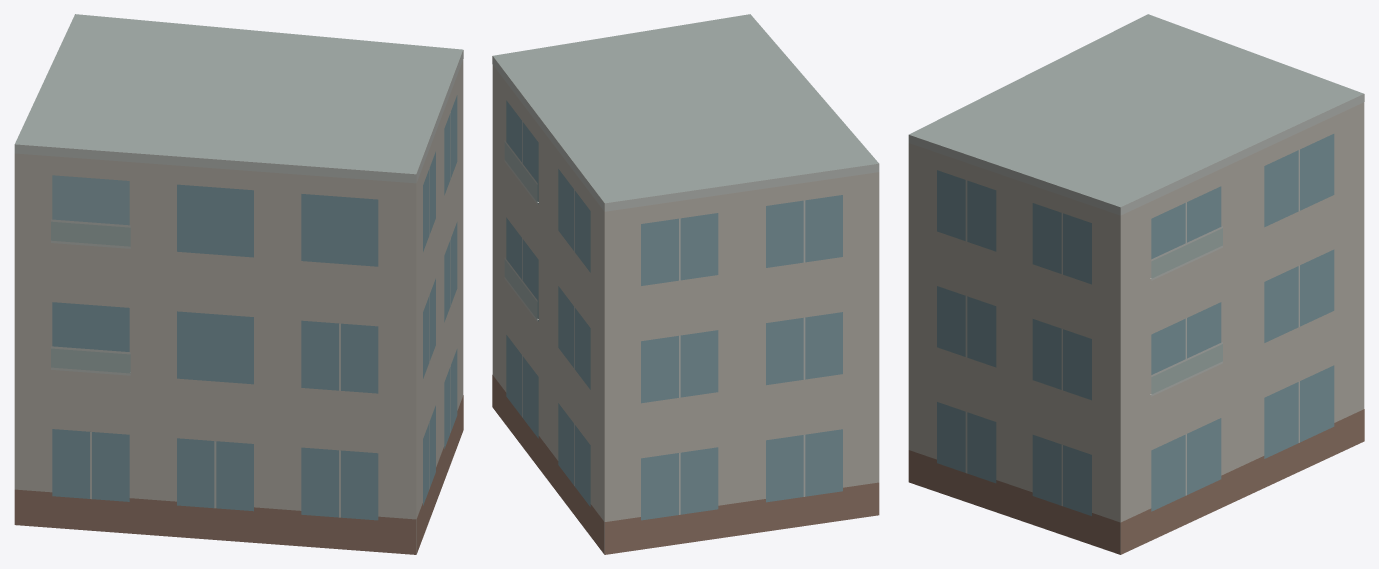
The model's file is survey-upis-32969982.glb.
3 renders of one model, left to right at view 1: azimuth 30°, elevation 25°; view 2: azimuth 150°, elevation 25°; view 3: azimuth 270°, elevation 25°, orthographic. The views are drawn at different scales.
Visible parts, largest first — view 1: survey-upis-32969982.tmp; view 2: survey-upis-32969982.tmp; view 3: survey-upis-32969982.tmp.
Part boxes in pixels (x1,y1,x2,y2): survey-upis-32969982.tmp: (14,14,463,554); survey-upis-32969982.tmp: (492,14,879,554); survey-upis-32969982.tmp: (908,14,1364,554).
Bounding box in the file's own units: 12.17 × 10.2 × 12.13.
